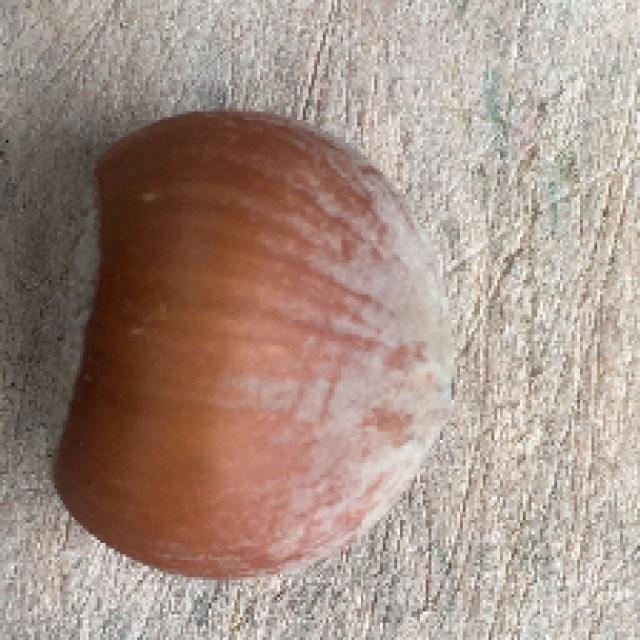qualityHazelnut: (47, 106, 463, 584)
